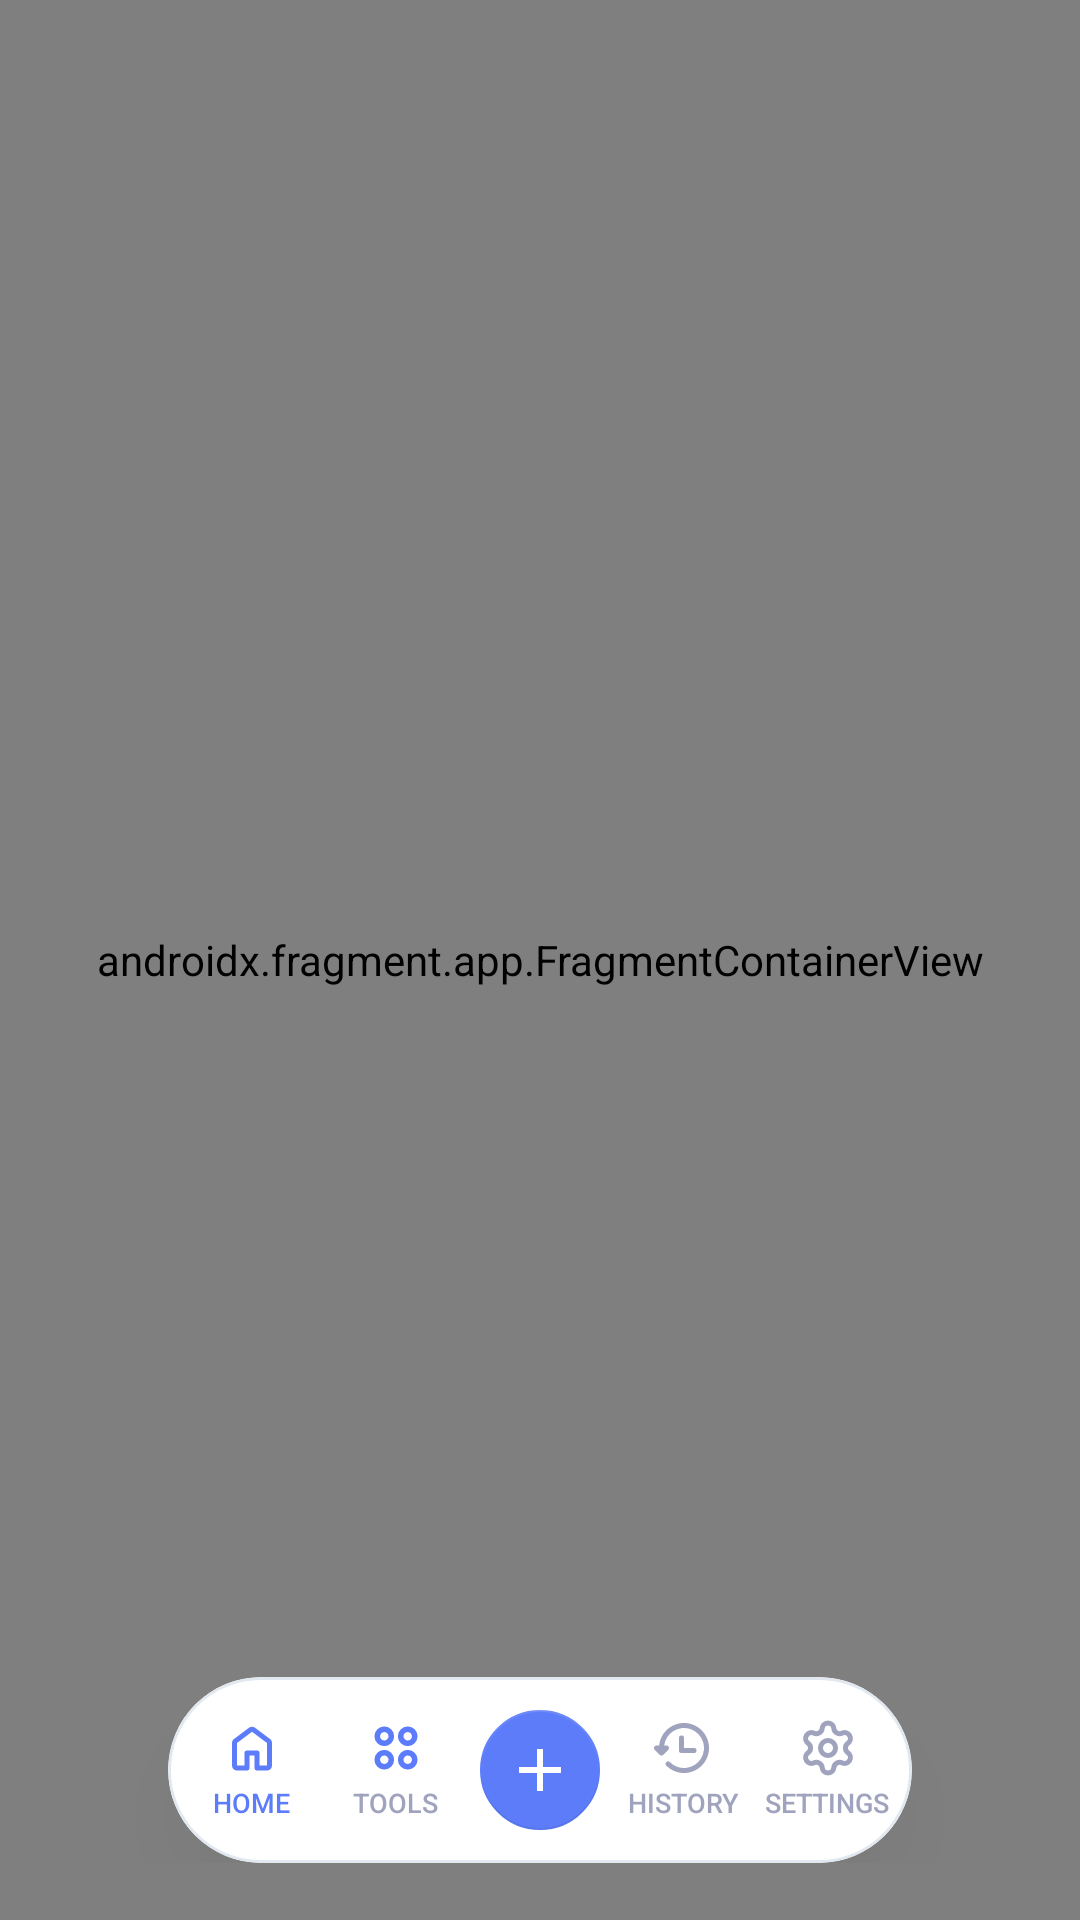

Where icons sit on this 1080px x 1920px app screen, as rect(x1, y1, x2, y2):
Add / Open file: rect(480, 1710, 600, 1830)
